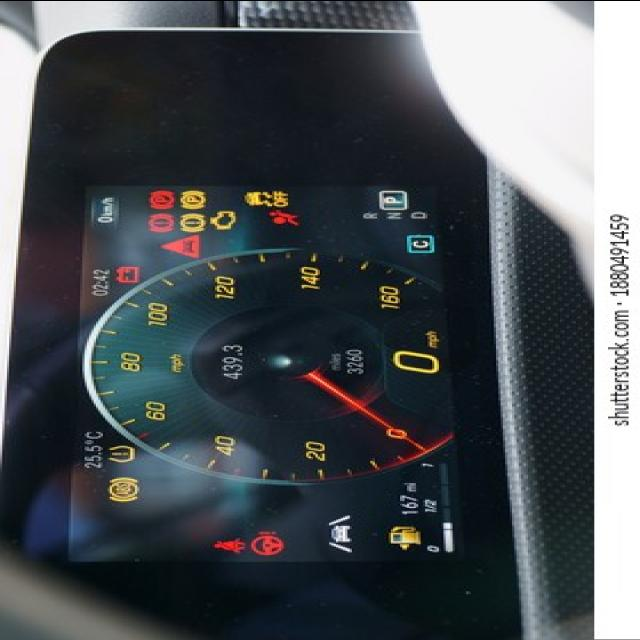Anti Lock Braking System: (105, 475, 142, 503)
Braking System Issue: (144, 210, 178, 234)
Charging System Issue: (112, 264, 142, 286)
Check Engine: (206, 208, 240, 232)
Electronic Stability Problem -ESP-: (240, 188, 292, 208)
Low Tire Pressure Warning Light: (103, 443, 137, 464)
SRS-Airbag: (266, 208, 302, 228)
